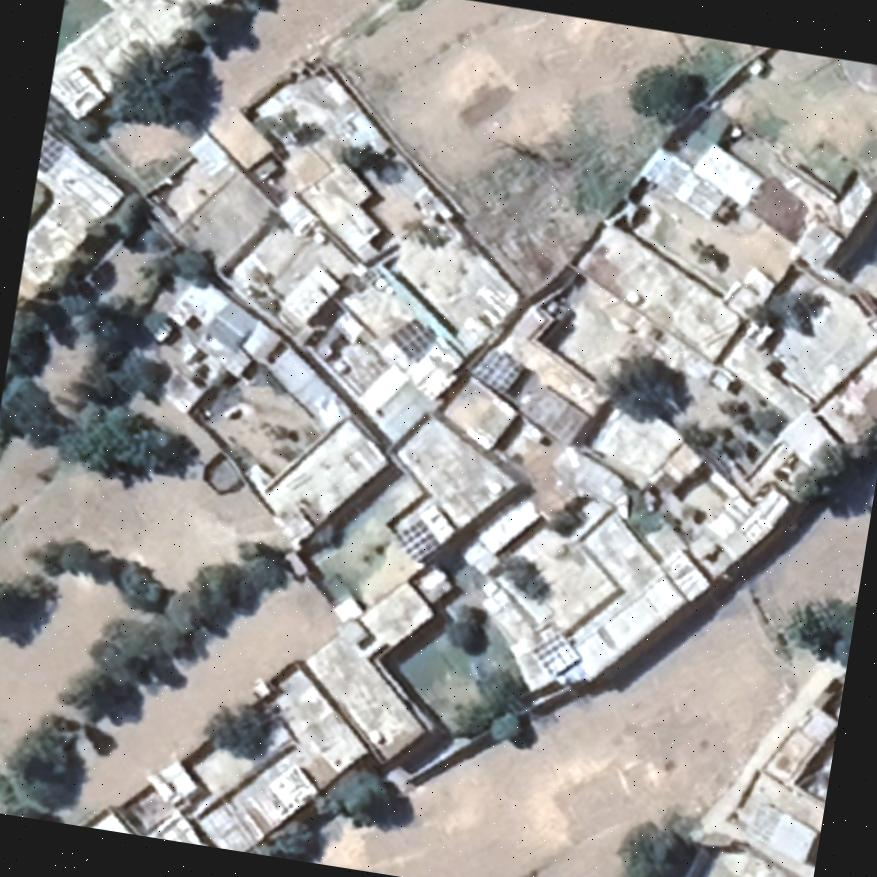Solarpanel: (468, 344, 527, 398), (390, 514, 446, 570), (384, 314, 439, 366), (527, 635, 587, 679), (37, 130, 68, 176)
